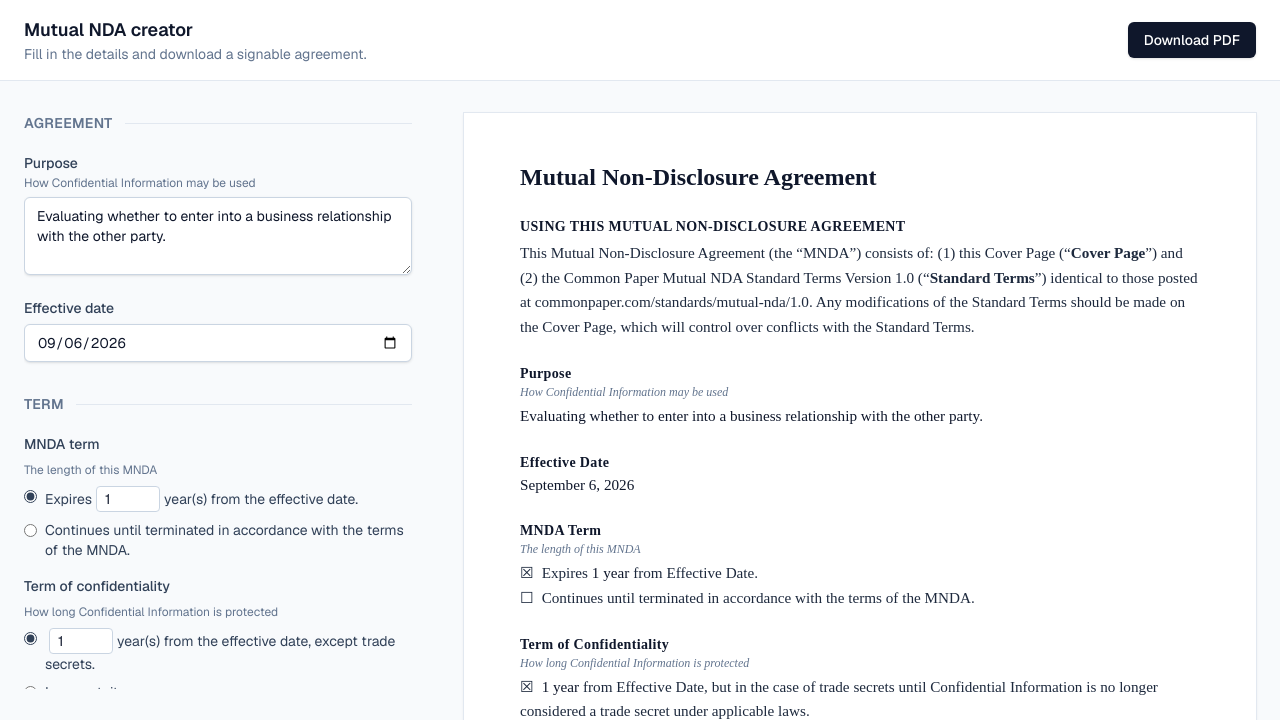
Test: downloading › refuses to generate a document while required fields are empty
Click the button "Download PDF". click: (1192, 40)
box: 1128,22 -> 1256,58
(page scrolled)
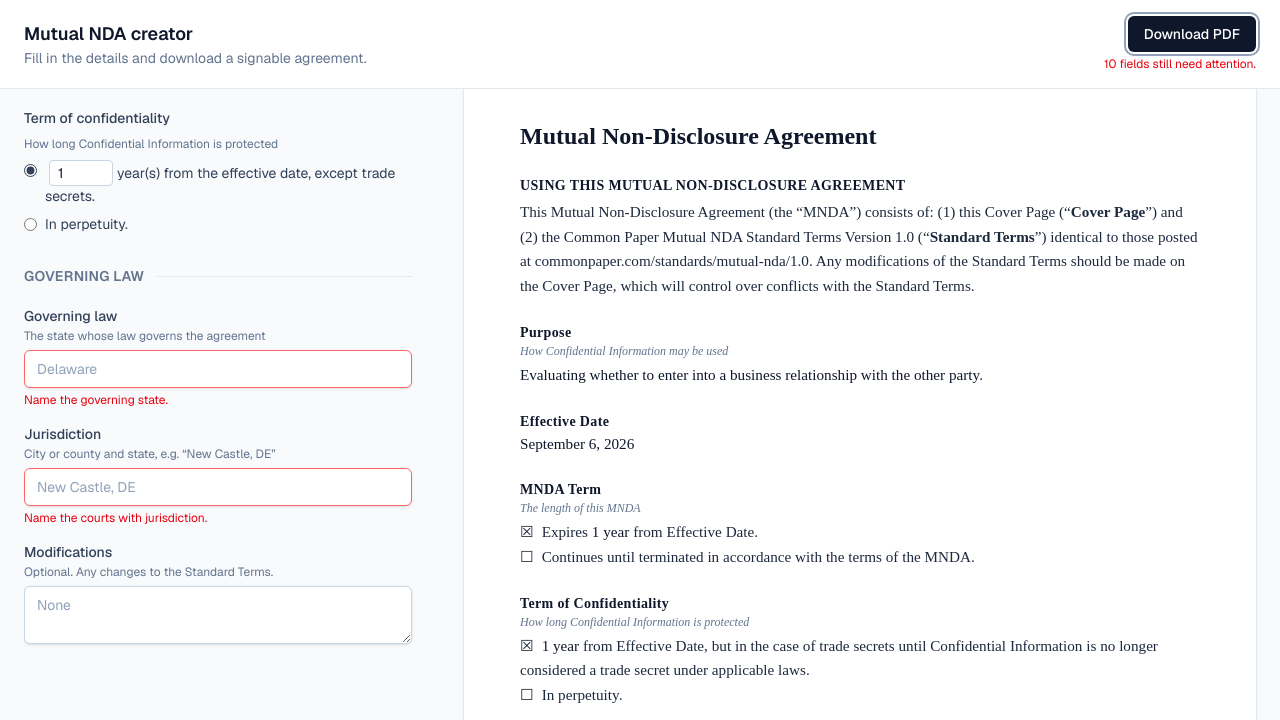
Now the message shows "fields still need attention", box 1104,56 -> 1256,72
Now the text "Name the governing state." is shown, box 24,392 -> 168,408
